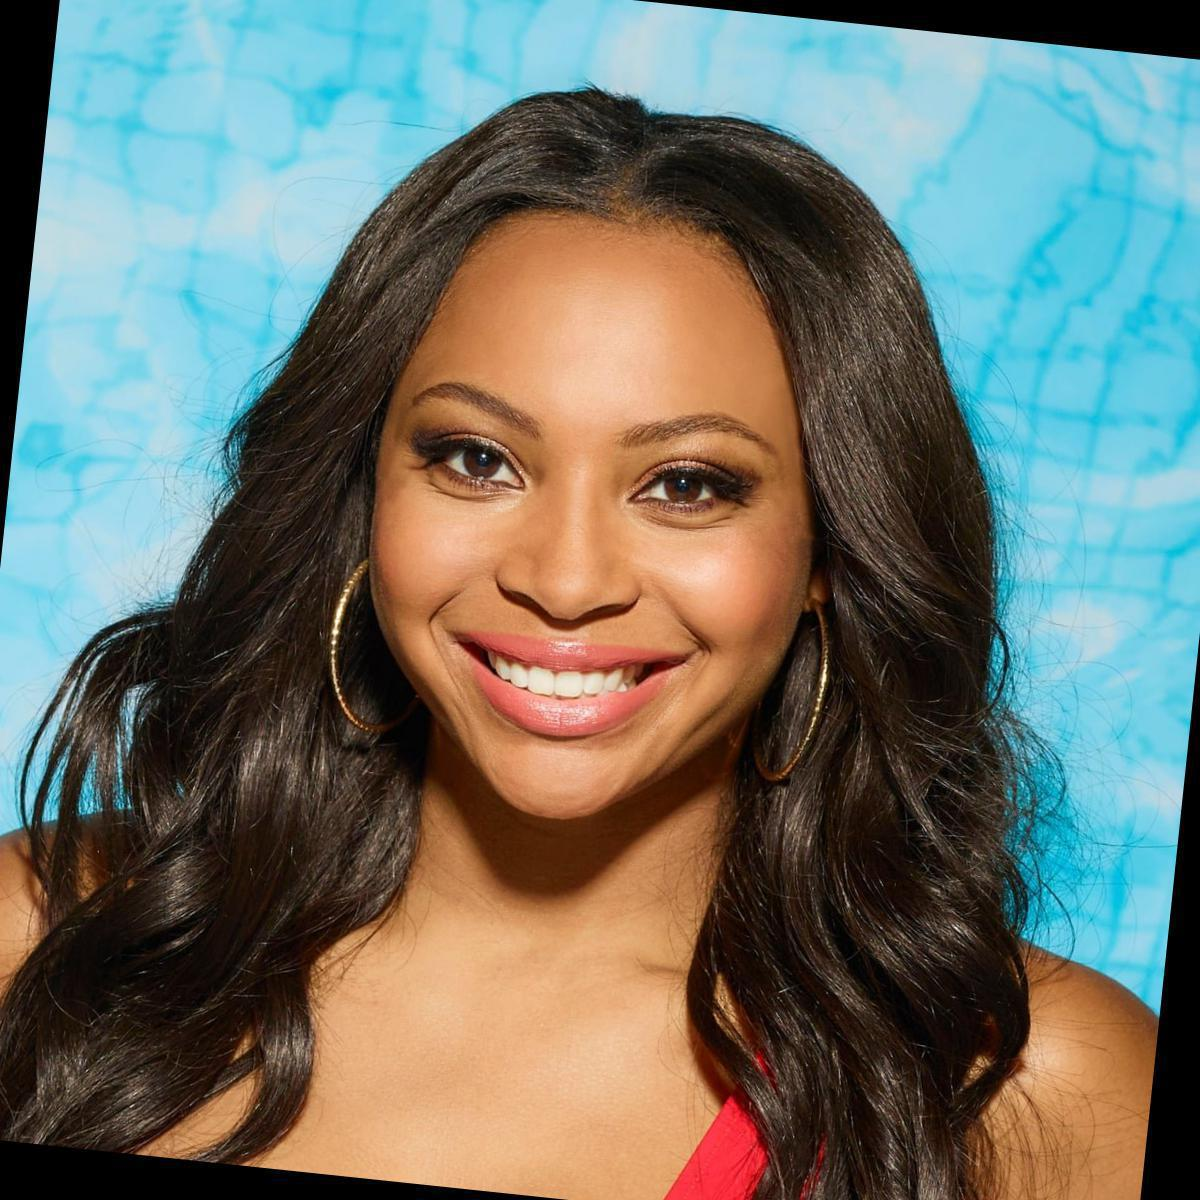Sober: (376, 227, 803, 830)
